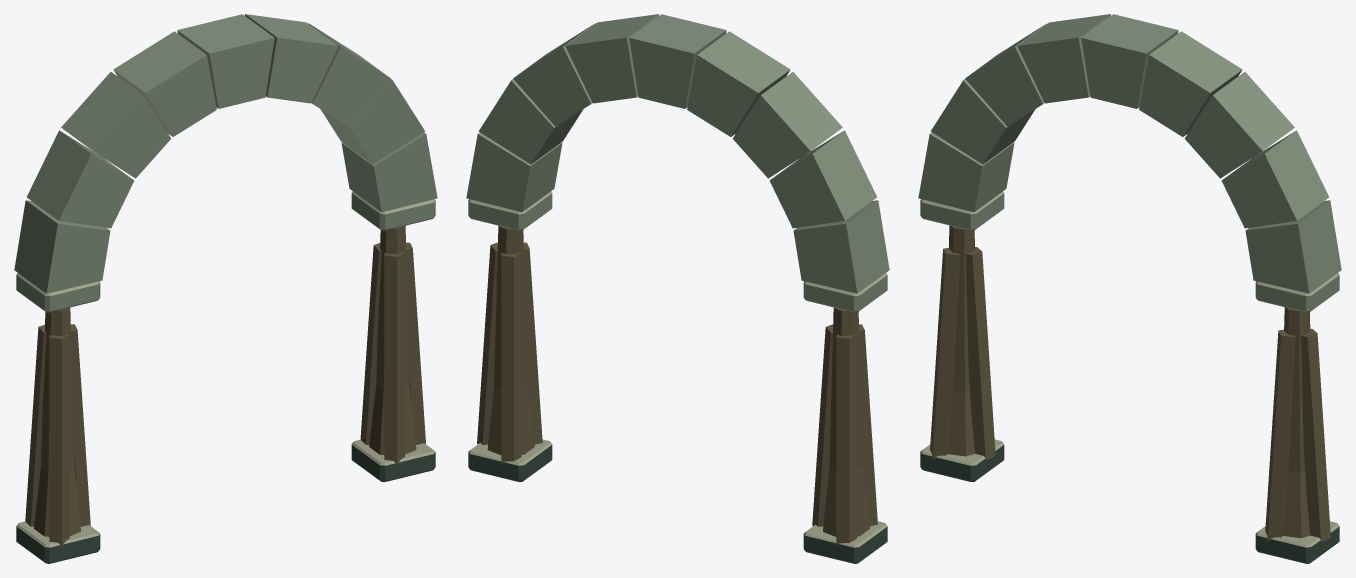
Rendered from arch-free.glb.
3 renders of one model, left to right at view 1: azimuth 30°, elevation 25°; view 2: azimuth 150°, elevation 25°; view 3: azimuth 330°, elevation 25°, orthographic.
Visible parts, largest first — view 1: arch-free__body; view 2: arch-free__body; view 3: arch-free__body.
Part boxes in pixels (x1,y1,x2,y2): arch-free__body: (14, 14, 437, 563); arch-free__body: (466, 14, 889, 563); arch-free__body: (918, 14, 1341, 563).
Bounding box in the file's own units: 2.83 × 3.23 × 0.4093.
